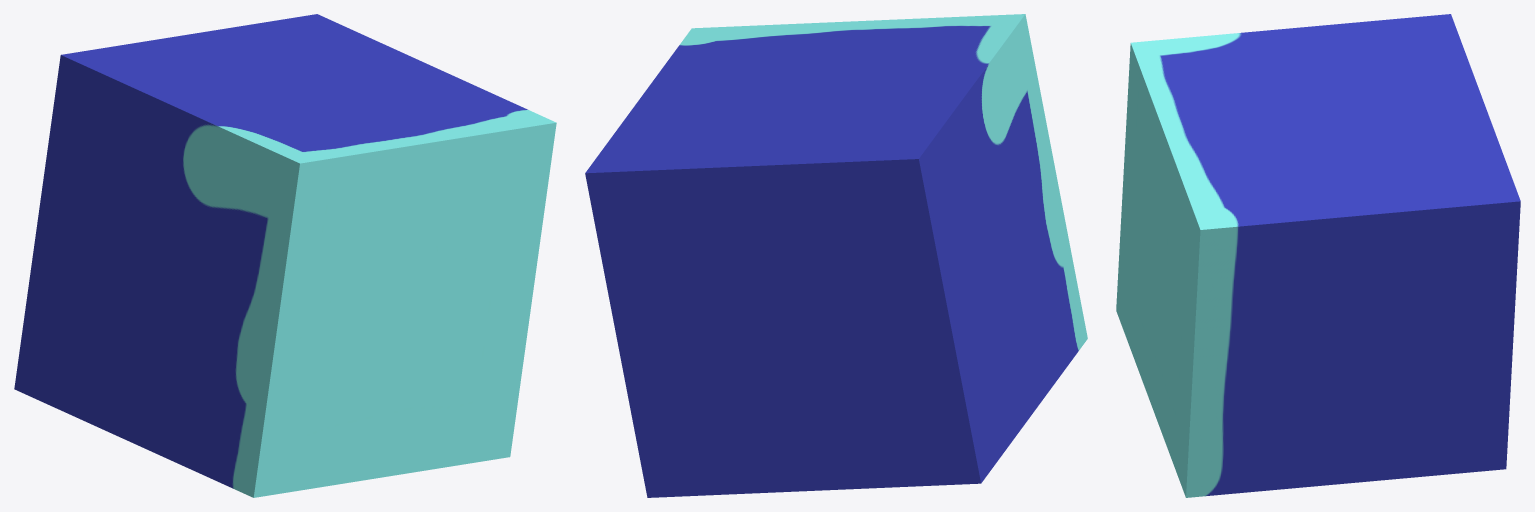
Rendered from DownloadTexturedCube.glb.
The picture shows the model from 3 angles, left to right: view 1: azimuth 30°, elevation 25°; view 2: azimuth 150°, elevation 25°; view 3: azimuth 270°, elevation 25°; orthographic projection. The views are drawn at different scales.
Parts seen in each view (by area): view 1: node_id4; view 2: node_id4; view 3: node_id4.
Boxes of the visible parts, x1,y1,x2,y2 form: node_id4: (14, 14, 556, 497); node_id4: (585, 14, 1087, 497); node_id4: (1116, 14, 1520, 497).
Size of the model in its own units: 0.6933 by 0.5992 by 0.6313.
1 material, 1 textured.
